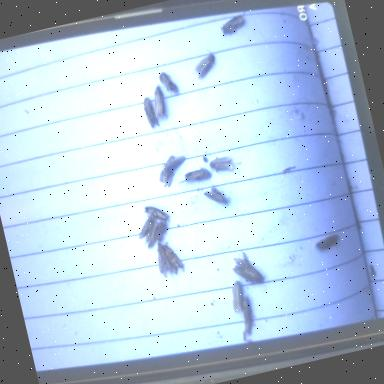pbw: (234, 298, 258, 342), (154, 156, 180, 190), (174, 163, 212, 186), (218, 10, 250, 36), (154, 240, 176, 277), (192, 50, 218, 80), (163, 242, 185, 274), (202, 181, 228, 208), (149, 84, 168, 120), (143, 201, 170, 226), (142, 96, 161, 131), (228, 280, 247, 312), (162, 155, 188, 178), (158, 70, 179, 97), (135, 214, 157, 239), (148, 220, 170, 244), (313, 234, 341, 252), (209, 154, 233, 174)
